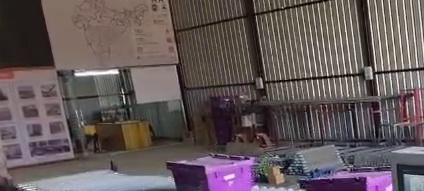box: (167, 154, 254, 190), (301, 171, 392, 190)
